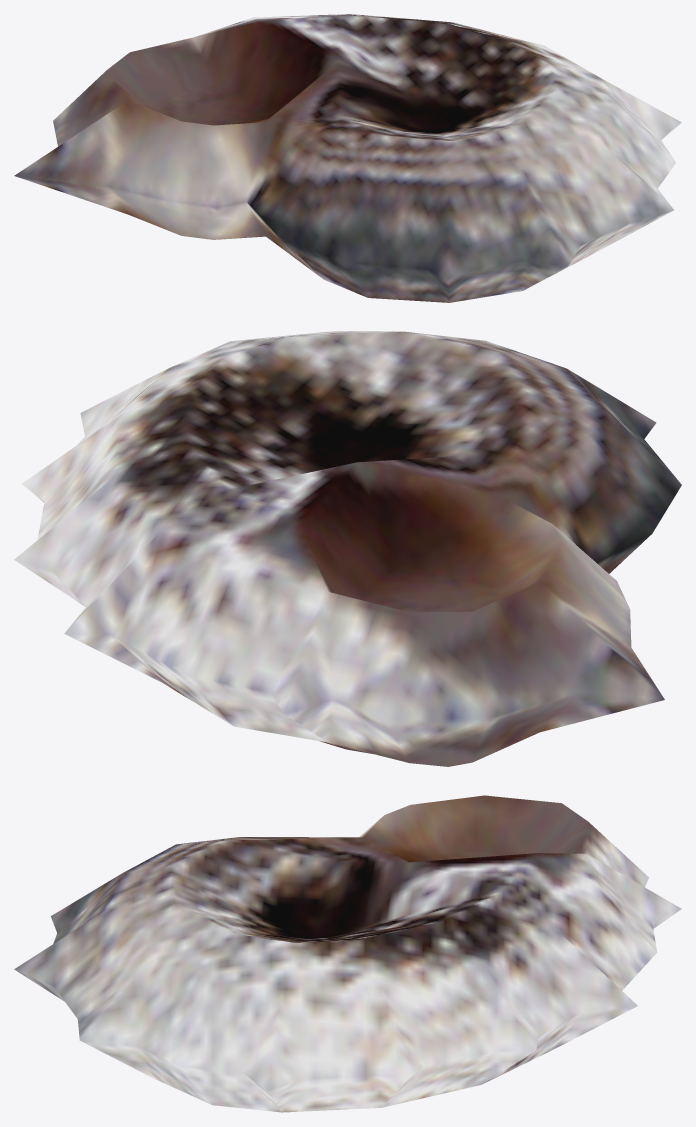
The model's file is SeaShell-05_LOD0_newsmall.glb.
3 renders of one model, top to bottom at view 1: azimuth 30°, elevation 25°; view 2: azimuth 150°, elevation 25°; view 3: azimuth 270°, elevation 25°, orthographic. The views are drawn at different scales.
Parts seen in each view (by area): view 1: SeaShell-05_high; view 2: SeaShell-05_high; view 3: SeaShell-05_high.
Boxes of the visible parts, x1,y1,x2,y2 form: SeaShell-05_high: (14, 14, 681, 302); SeaShell-05_high: (14, 331, 681, 766); SeaShell-05_high: (14, 795, 681, 1112).
Bounding box in the file's own units: 0.1176 × 0.0321 × 0.1152.
1 material, 1 textured.
